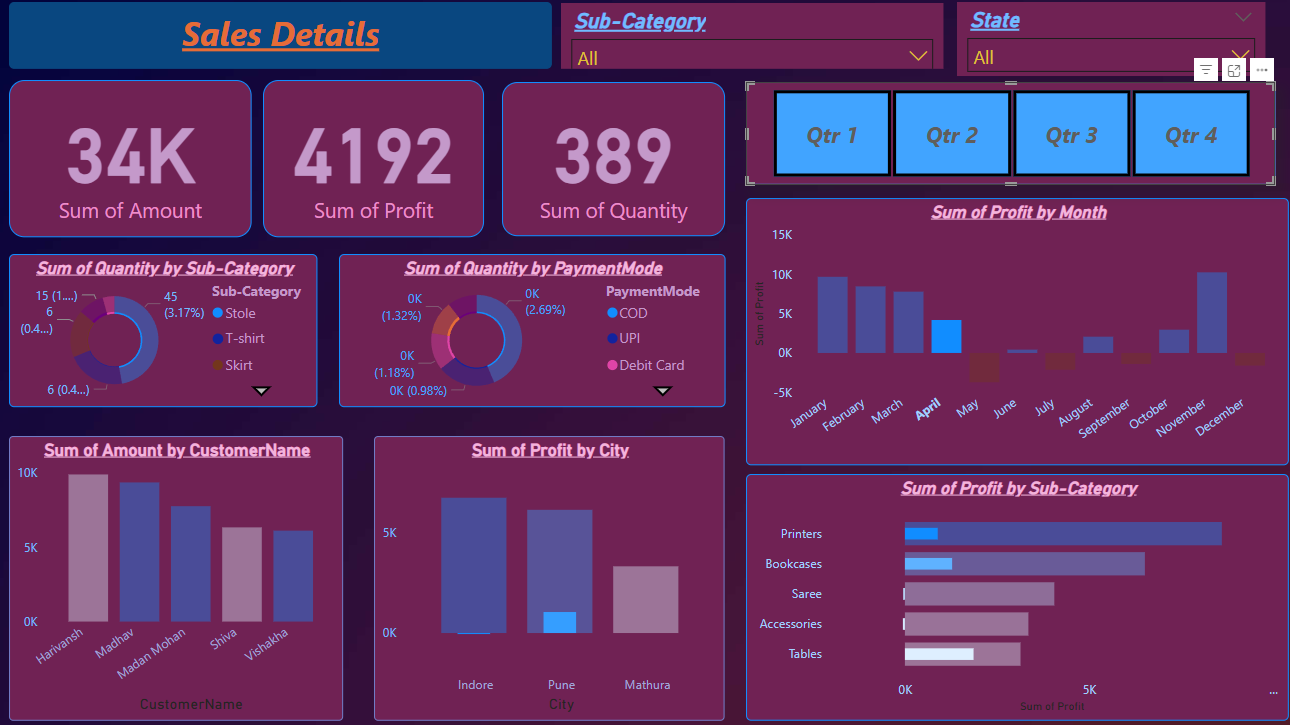

The dashboard page shown, as its layout file describes it:
{"tool":"powerbi","page":{"name":"Page 1","canvas":[1280,720],"ordinal":0},"visuals":[{"type":"columnChart","fields":{"Category":["Orders.Order Date.Variation.Date Hierarchy.Month"],"Y":["Details.Profit"]},"box":[738.1,199.4,528.2,260],"z":0},{"type":"barChart","fields":{"Y":["Details.Profit"],"Category":["Details.Sub-Category"]},"box":[738.1,467.6,528.2,240.2],"z":1000},{"type":"donutChart","fields":{"Y":["Details.Quantity"],"Category":["Details.Sub-Category"]},"box":[21.1,254.3,300.5,148.9],"z":2000},{"type":"donutChart","fields":{"Y":["Details.Quantity"],"Category":["Details.PaymentMode"]},"box":[342.6,254.3,375.6,148.9],"z":3000},{"type":"columnChart","fields":{"Category":["Orders.CustomerName"],"Y":["Details.Amount"]},"box":[21.1,430.9,325.5,276.7],"z":4000},{"type":"card","fields":{"Values":["Details.Amount"]},"box":[21.1,84.3,235.9,152.9],"z":5000},{"type":"card","fields":{"Values":["Details.Profit"]},"box":[268.8,84.3,214.8,152.9],"z":6000},{"type":"card","fields":{"Values":["Details.Quantity"]},"box":[500.8,87,217.4,150.2],"z":7000},{"type":"columnChart","fields":{"Y":["Details.Profit"],"Category":["Orders.City"]},"box":[376.9,430.9,341.3,276.7],"z":8000},{"type":"textbox","box":[21.1,9.2,528.4,64.6],"z":9000},{"type":"slicer","fields":{"Values":["Orders.Order Date.Variation.Date Hierarchy.Quarter"]},"box":[738,87,515.3,100.2],"z":10000},{"type":"slicer","fields":{"Values":["Orders.State"]},"box":[943.5,9.2,300.5,72.5],"z":11000},{"type":"slicer","fields":{"Values":["Details.Sub-Category"]},"box":[558.5,9.3,372,64.1],"z":11001}]}

Visuals, with their boxes in screenshot pixels (x1, y1, x2, y2), scaled from the page's 1280x720 canvas onto the 1290x725 screenshot:
columnChart - Orders.Order Date.Variation.Date Hierarchy.Month x Details.Profit: l=744, t=201, r=1276, b=463
barChart - Details.Profit x Details.Sub-Category: l=744, t=471, r=1276, b=713
donutChart - Details.Quantity x Details.Sub-Category: l=21, t=256, r=324, b=406
donutChart - Details.Quantity x Details.PaymentMode: l=345, t=256, r=724, b=406
columnChart - Orders.CustomerName x Details.Amount: l=21, t=434, r=349, b=713
card - Details.Amount: l=21, t=85, r=259, b=239
card - Details.Profit: l=271, t=85, r=487, b=239
card - Details.Quantity: l=505, t=88, r=724, b=239
columnChart - Details.Profit x Orders.City: l=380, t=434, r=724, b=713
textbox: l=21, t=9, r=554, b=74
slicer - Orders.Order Date.Variation.Date Hierarchy.Quarter: l=744, t=88, r=1263, b=188
slicer - Orders.State: l=951, t=9, r=1254, b=82
slicer - Details.Sub-Category: l=563, t=9, r=938, b=74
